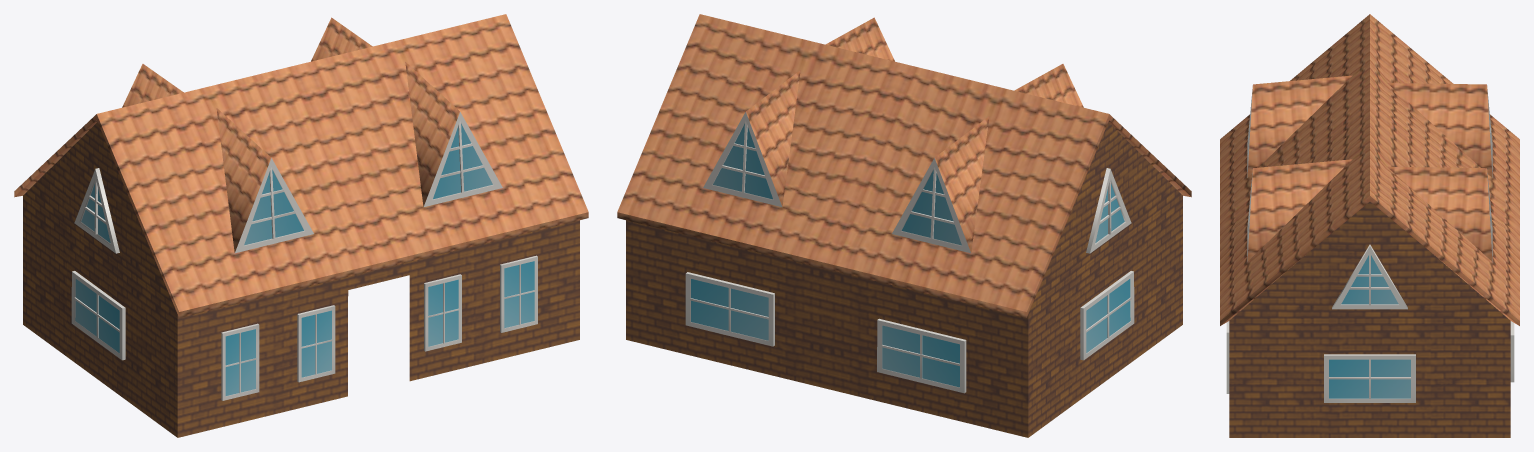
The model's file is Wide_Custom_House_02.fbx.
The picture shows the model from 3 angles, left to right: view 1: azimuth 30°, elevation 25°; view 2: azimuth 150°, elevation 25°; view 3: azimuth 270°, elevation 25°; orthographic projection. The views are drawn at different scales.
Parts seen in each view (by area): view 1: Roof_2, OutsideWalls_2, WindowFrames_2_1; view 2: Roof_2, OutsideWalls_2, WindowFrames_2_1; view 3: Roof_2, OutsideWalls_2, WindowFrames_2_1.
Boxes of the visible parts, <box> form: Roof_2: <box>14,14,588,317</box>; OutsideWalls_2: <box>23,122,579,437</box>; WindowFrames_2_1: <box>71,112,537,400</box>; Roof_2: <box>617,14,1191,317</box>; OutsideWalls_2: <box>626,122,1182,437</box>; WindowFrames_2_1: <box>685,112,1134,393</box>; Roof_2: <box>1220,14,1519,325</box>; OutsideWalls_2: <box>1229,201,1510,437</box>; WindowFrames_2_1: <box>1226,85,1514,402</box>.
Size of the model in its own units: 0.5536 by 0.3439 by 0.3833.
